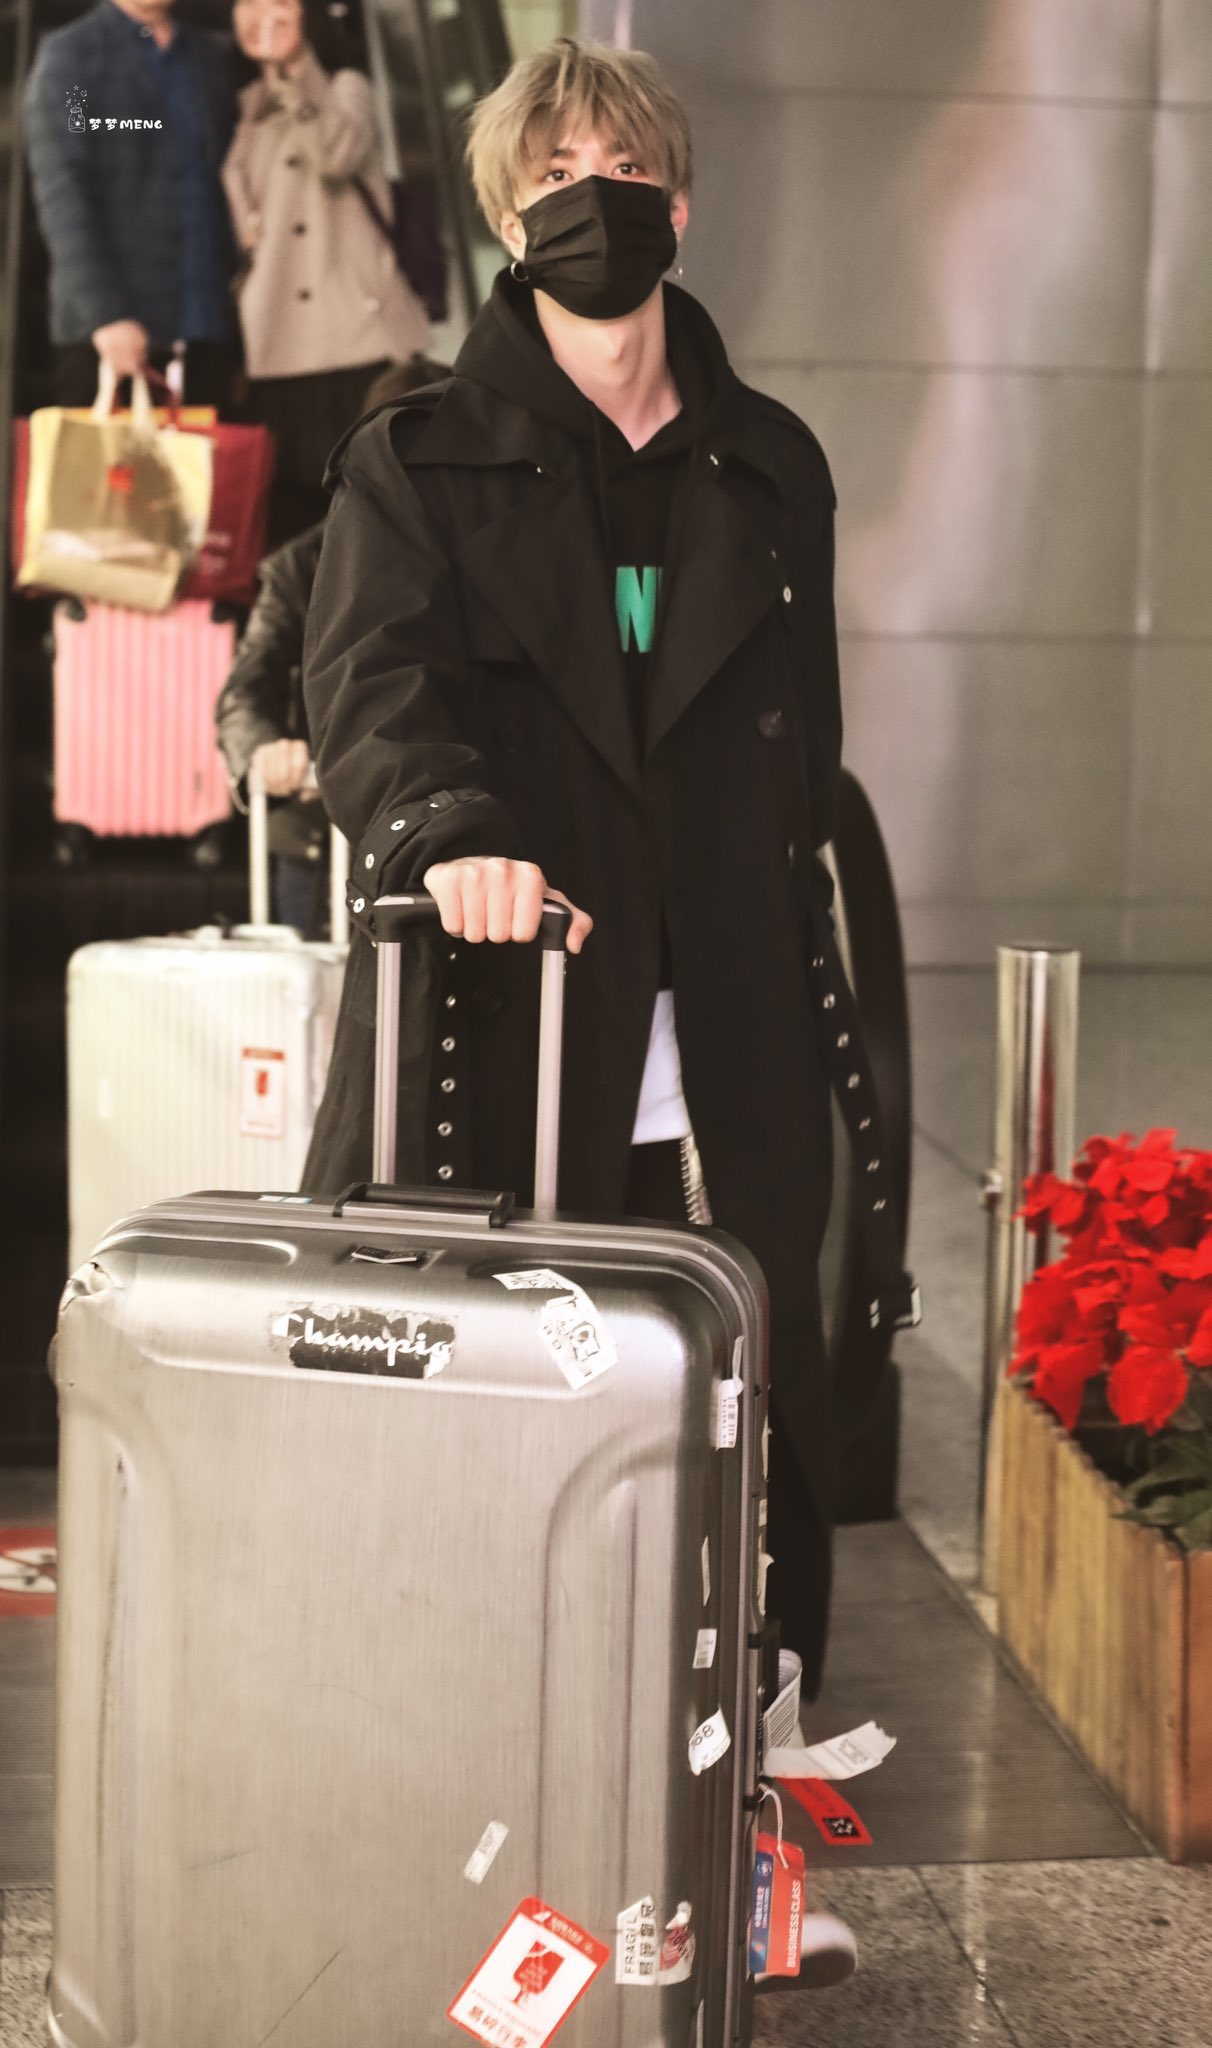bag: (4, 352, 282, 605)
luggage: (60, 889, 781, 2048), (51, 764, 357, 1220), (48, 586, 248, 858)
people: (370, 42, 873, 1855)
